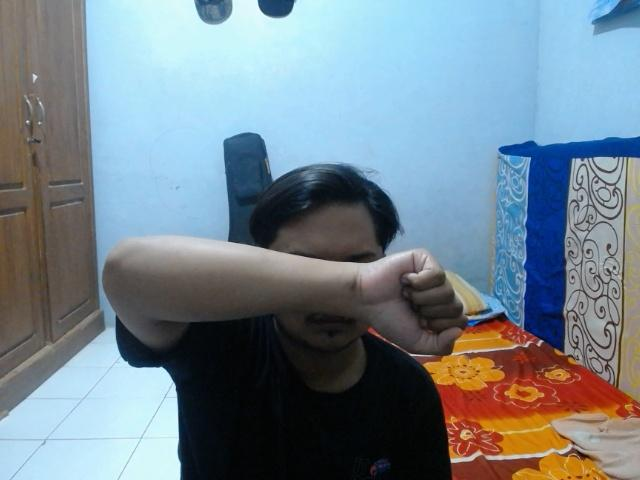Grab: (347, 244, 472, 359)
